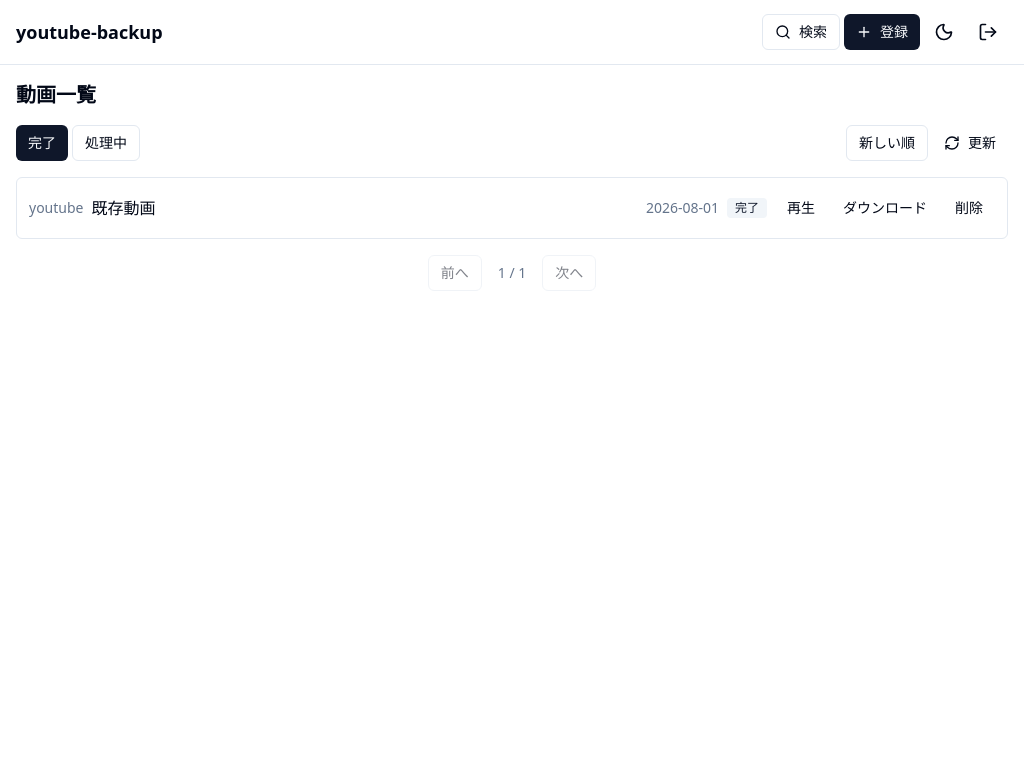
動画登録 結合（ヘッダ→ダイアログ→登録 / US4.1・FR4.1・FR4.2・C5） › 無効 URL はフォーム内バリデーションを表示し API を呼ばない（error-path / NFR4）
expect the text "既存動画" is shown: met, box x1=92 y1=197 x2=156 y2=219
Click the button with aria-label "動画を登録". click: (882, 32)
box: x1=844 y1=14 x2=920 y2=50
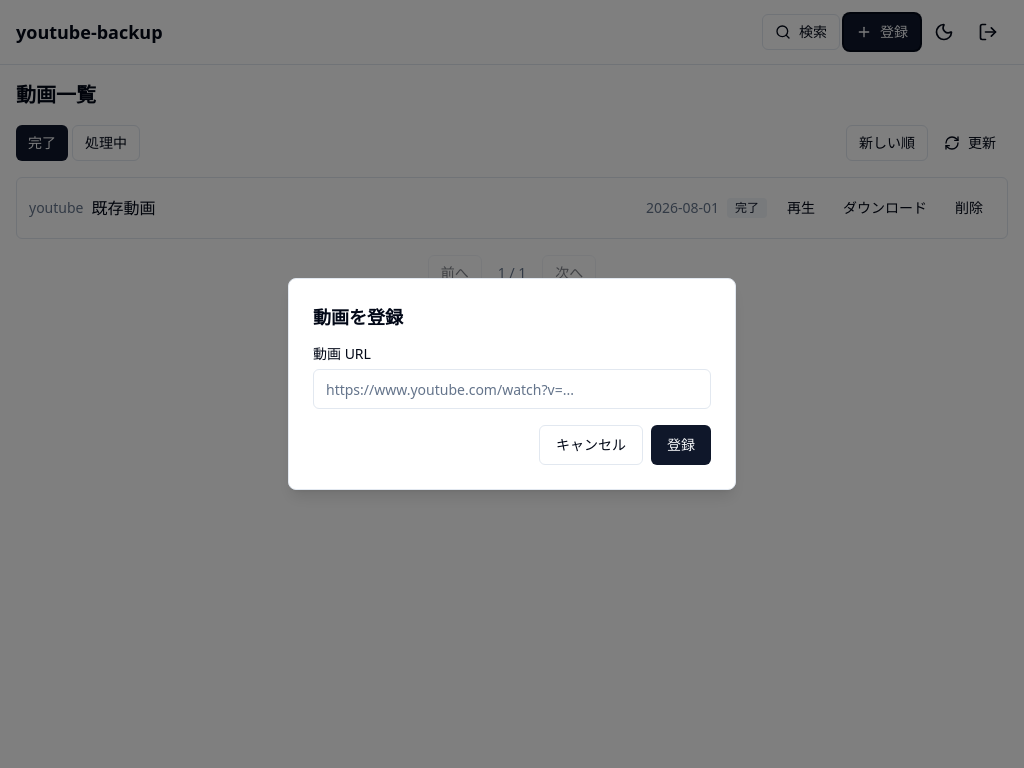
expect the dialog is shown: met, box x1=288 y1=278 x2=736 y2=490
Type "notaurl" into the field labelled "動画 URL". click: (512, 389)
box: x1=313 y1=369 x2=711 y2=409
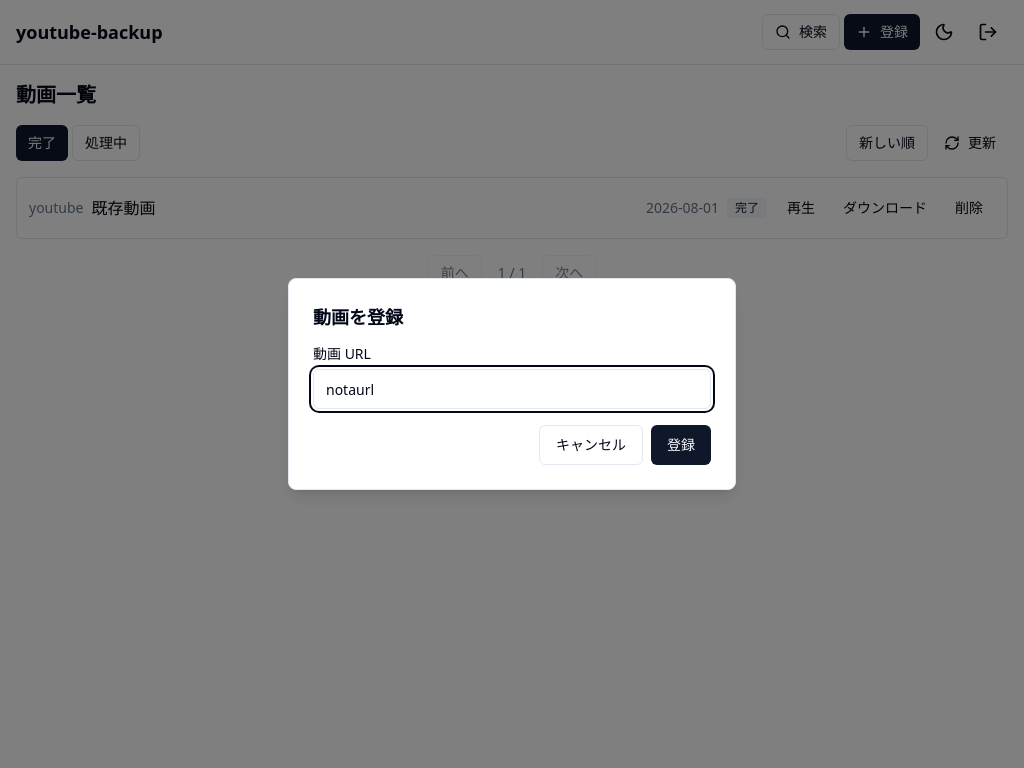
Click the button "登録". click: (681, 445)
box: x1=651 y1=425 x2=711 y2=465
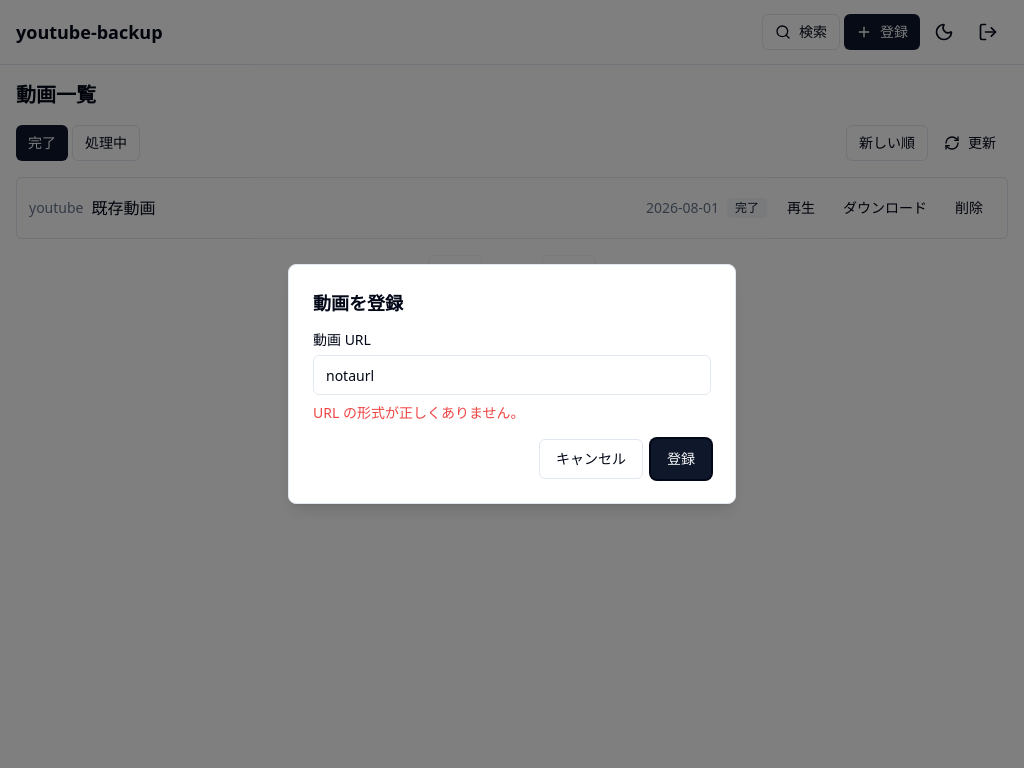
expect the dialog is shown: met, box x1=288 y1=264 x2=736 y2=504
expect the message shows "形式": met, box x1=313 y1=403 x2=524 y2=422
